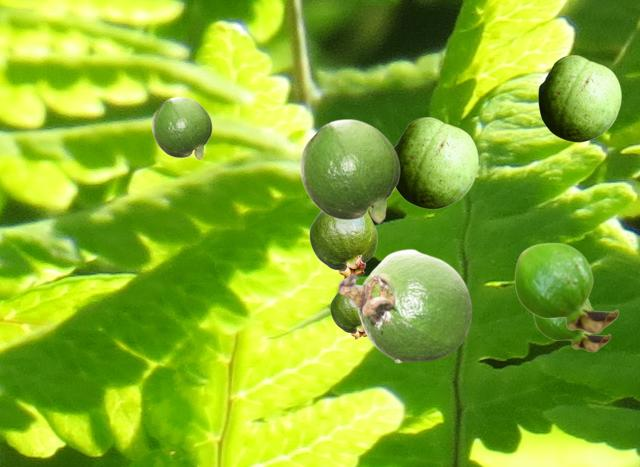guava: (337, 248, 472, 362), (299, 118, 399, 223), (514, 242, 618, 333), (394, 117, 477, 208), (538, 55, 620, 141), (309, 211, 376, 277), (533, 299, 610, 351), (151, 96, 211, 159), (330, 284, 365, 338)
